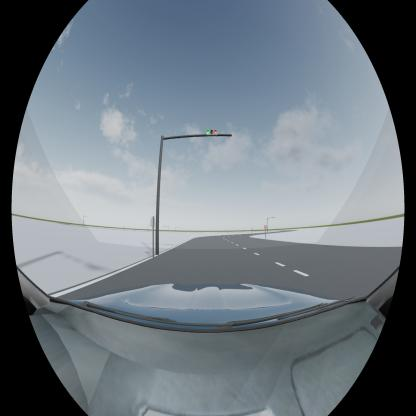Green Light: (206, 128, 218, 139)
